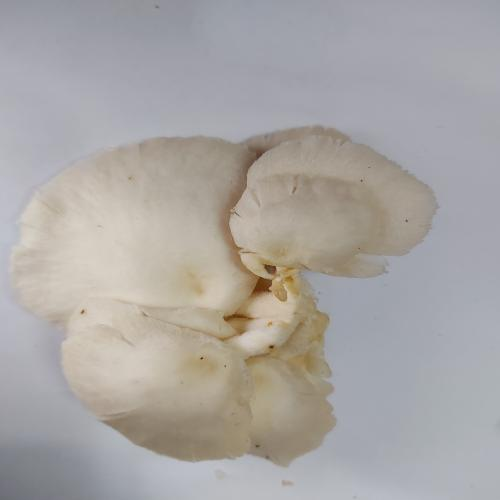Oyster Mushroom: (9, 124, 439, 465)
